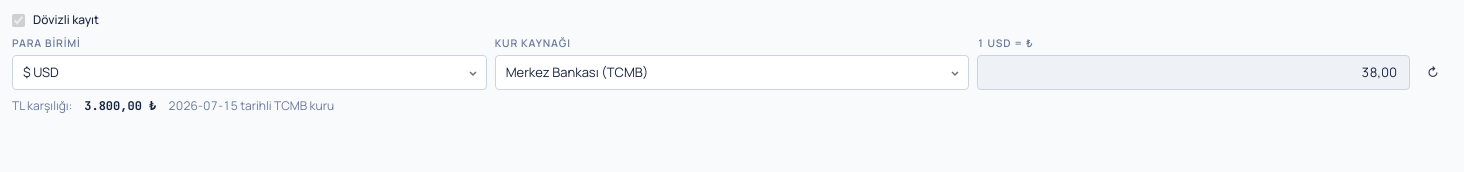
<FxCurrencyFields /> › lockToggle ile tik kilitlenir (döviz hesabı) ama kur kaynağı seçilebilir
Expected: the checkbox with test id "fx-toggle" is disabled, top-left (12, 14), bottom-right (25, 26)
Select "Manuel kur" in the dropdown with test id "fx-rate-source" at (732, 73), box top-left (495, 55), bottom-right (969, 90)
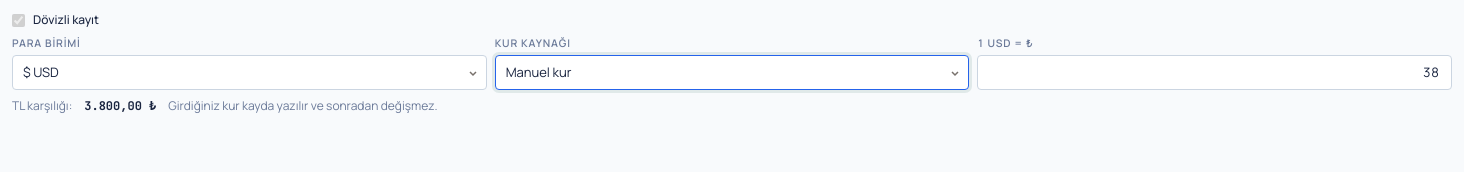
Now the field with test id "fx-rate-input" is shown, box top-left (977, 55), bottom-right (1452, 90)
